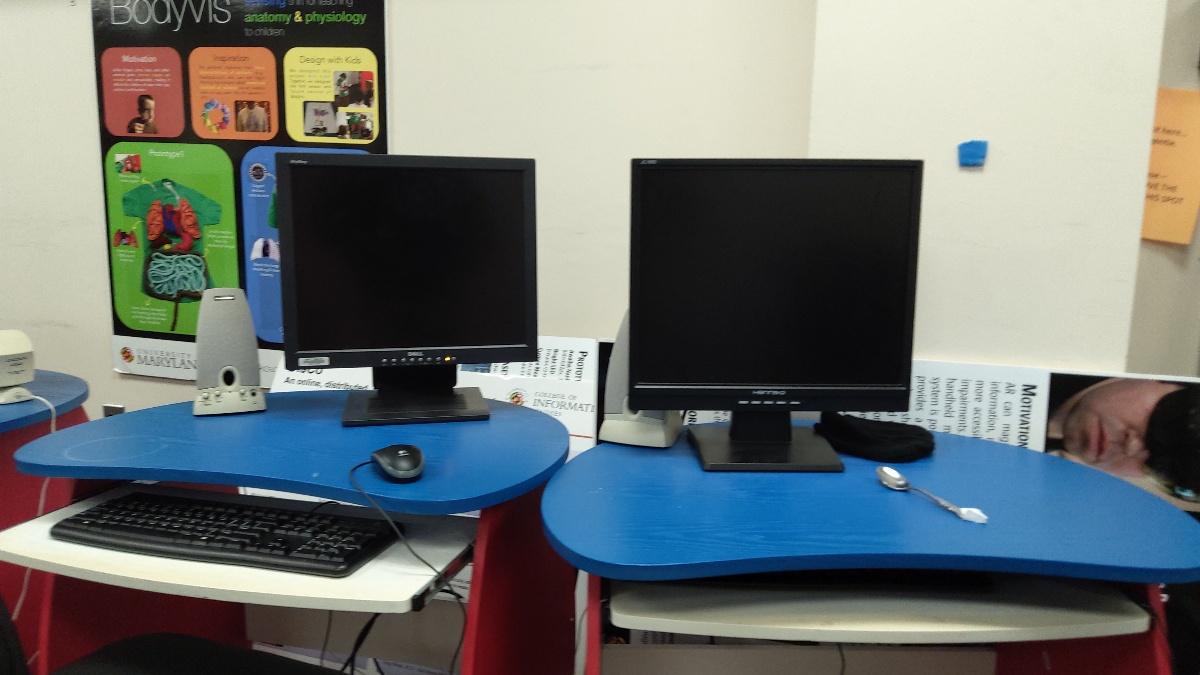monitor: (625, 150, 927, 416), (268, 142, 550, 375)
